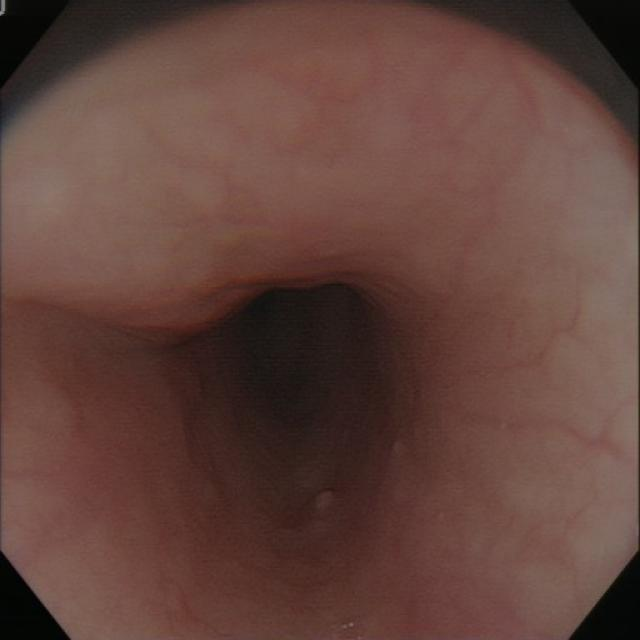E: (216, 279, 394, 486)
J: (310, 487, 337, 517)
